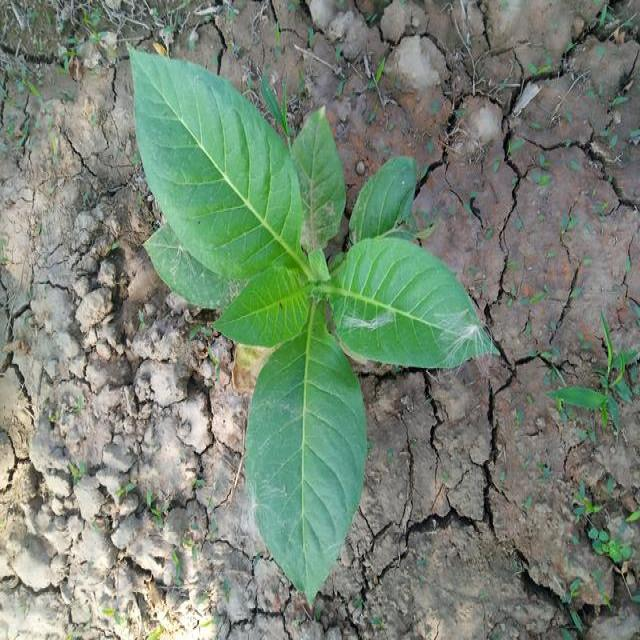crop: (122, 42, 500, 618)
